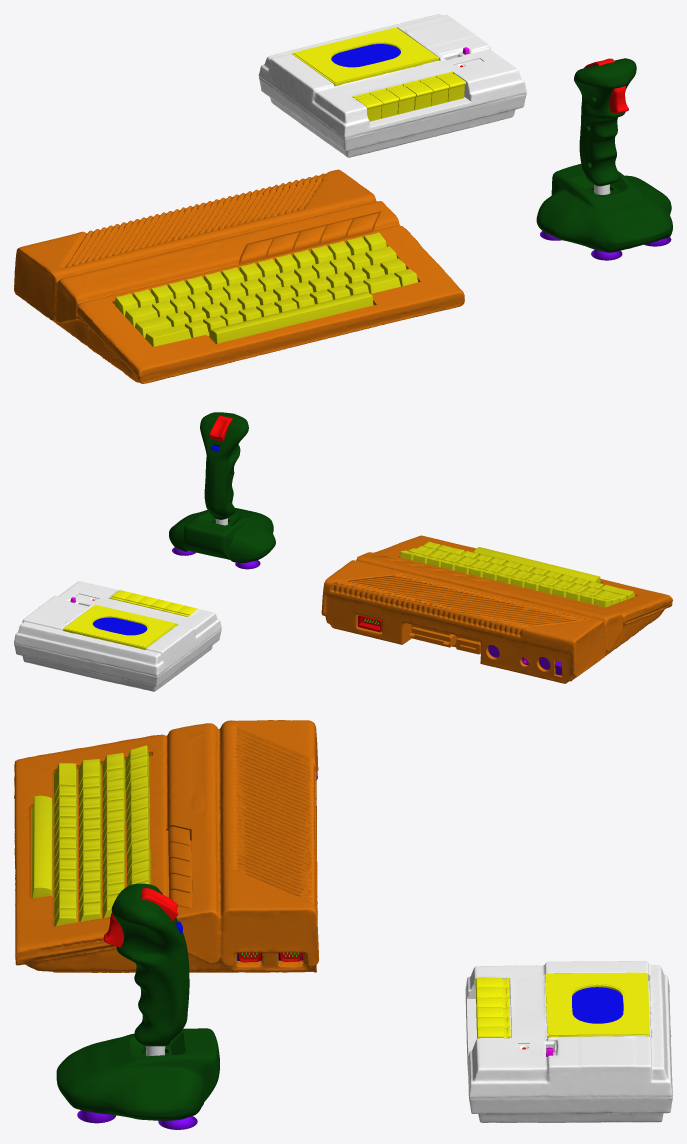
The model's file is materialowanie_SimpleBakeExport.fbx.
3 views of the same model, one above another, from view 1: azimuth 30°, elevation 25°; view 2: azimuth 150°, elevation 25°; view 3: azimuth 270°, elevation 25° (orthographic). The views are drawn at different scales.
Visible parts, largest first — view 1: klawiatura kolor_Baked, MIM_1726_magnetofon_Baked, MIM_1726_JOYSTICK_Baked; view 2: klawiatura kolor_Baked, MIM_1726_magnetofon_Baked, MIM_1726_JOYSTICK_Baked; view 3: klawiatura kolor_Baked, MIM_1726_magnetofon_Baked, MIM_1726_JOYSTICK_Baked.
Boxes of the visible parts, <box> form: klawiatura kolor_Baked: <box>14,169,464,383</box>; MIM_1726_magnetofon_Baked: <box>258,14,526,157</box>; MIM_1726_JOYSTICK_Baked: <box>536,58,672,260</box>; klawiatura kolor_Baked: <box>321,535,672,683</box>; MIM_1726_magnetofon_Baked: <box>14,581,221,691</box>; MIM_1726_JOYSTICK_Baked: <box>169,412,275,569</box>; klawiatura kolor_Baked: <box>14,720,318,972</box>; MIM_1726_magnetofon_Baked: <box>465,961,672,1122</box>; MIM_1726_JOYSTICK_Baked: <box>56,883,219,1129</box>.
Bounding box in the file's own units: 62.35 × 17.58 × 50.64.
